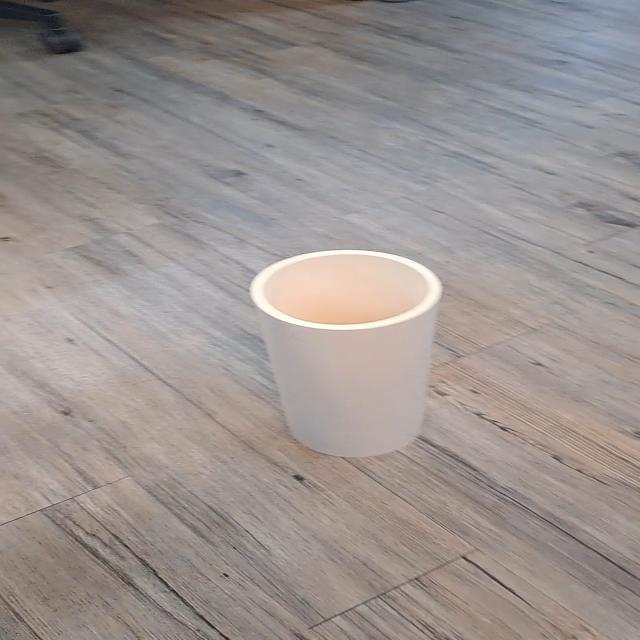CORAL: (240, 230, 488, 476)
